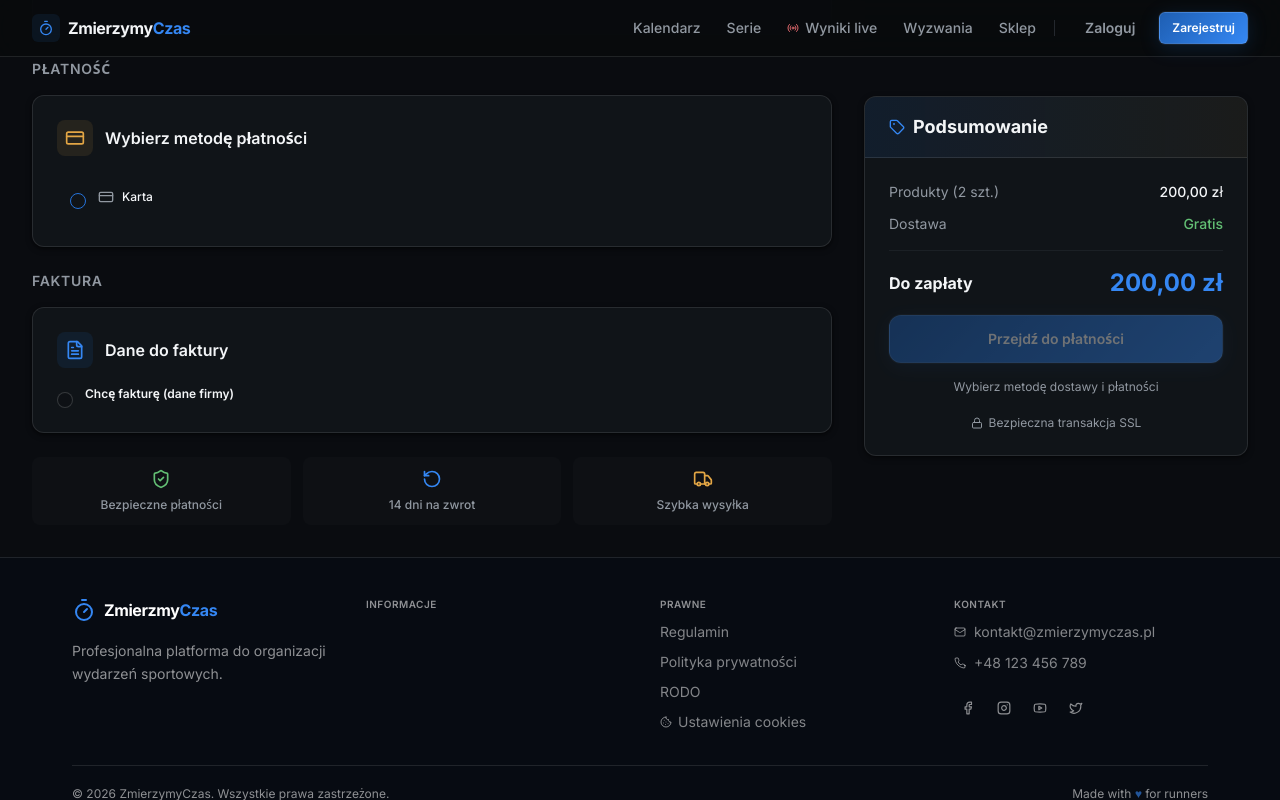
CartPage checkout › invoice data › shows a distinct format hint and error for a malformed NIP once touched
The image size is (1280, 800).
(page scrolled)
Click the checkbox named "Chcę fakturę (dane firmy)" at [65, 400], box [57,392,73,408]
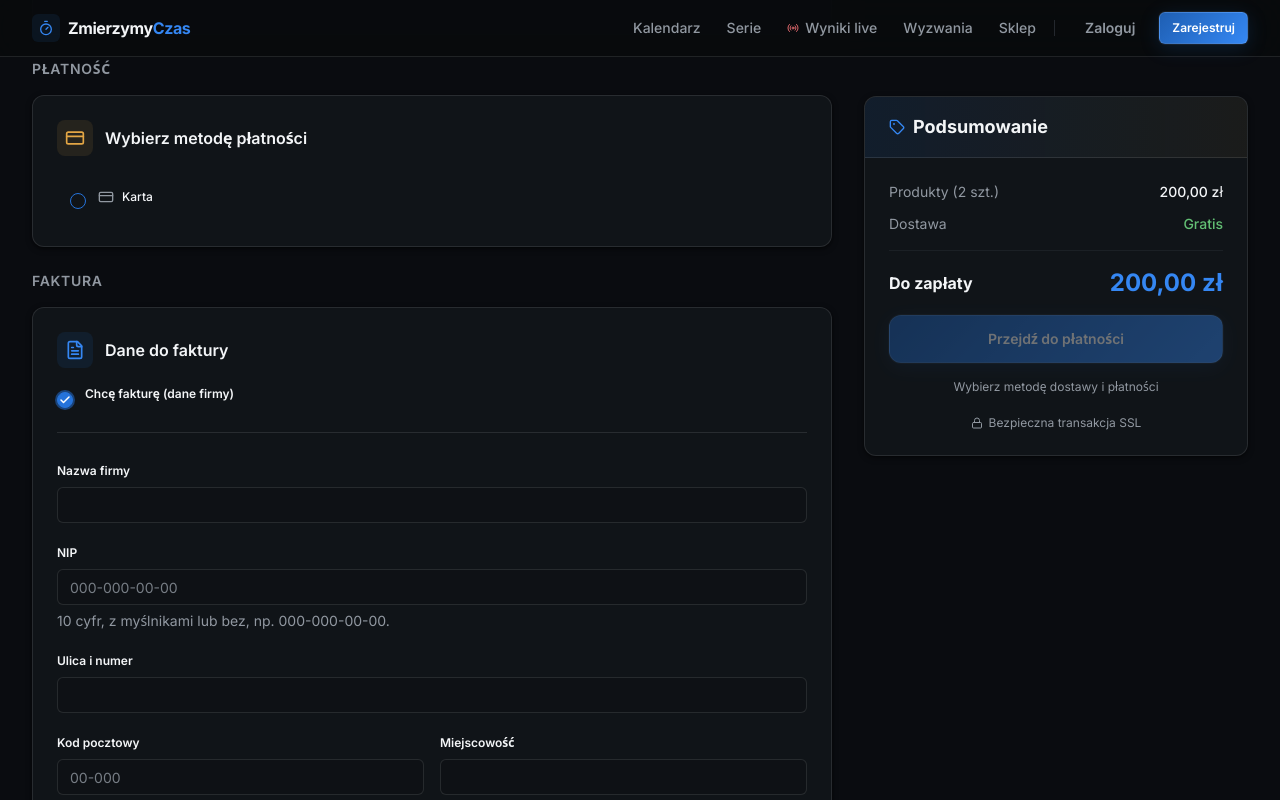
expect the text "10 cyfr, z myślnikami lub bez, np. 000-000-00-00." is shown: met, box [57,612,390,629]
Type "12345" into the field labelled "NIP" at [432, 587], box [57,569,807,605]
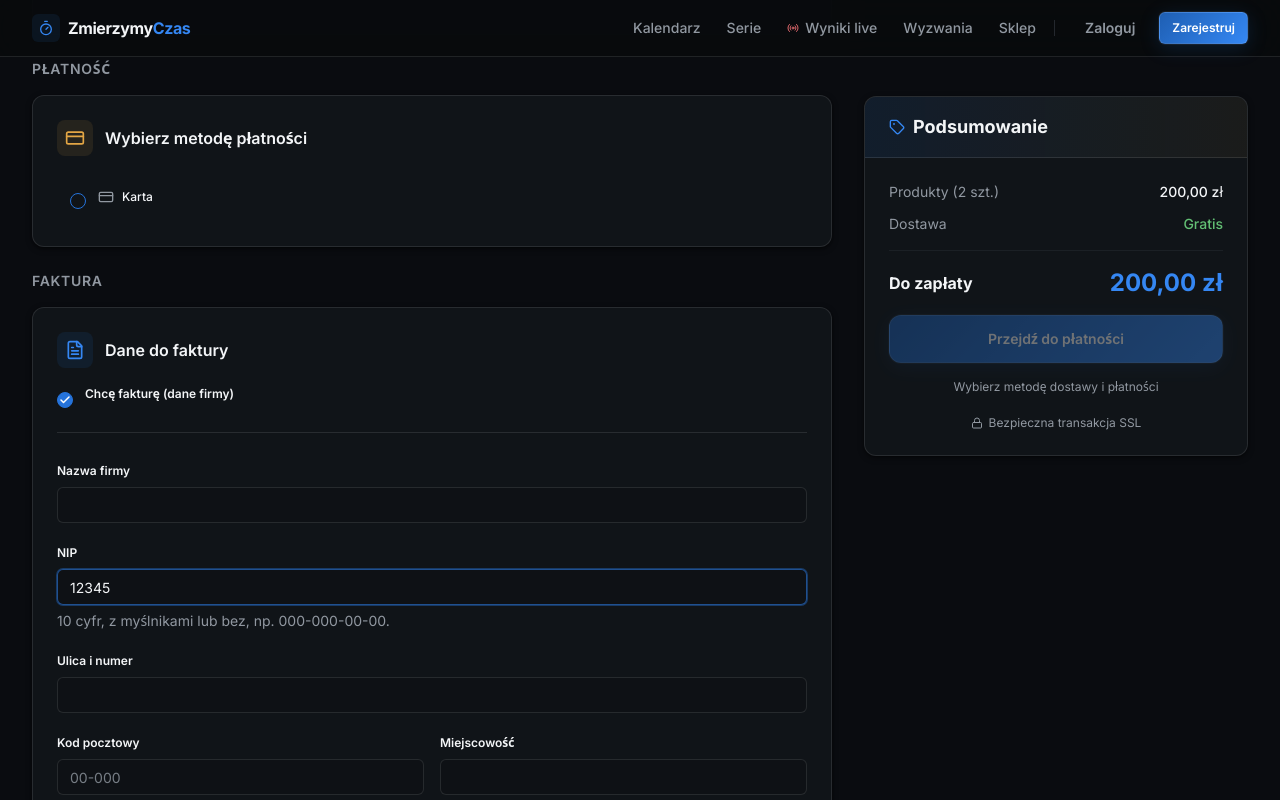
Press Tab
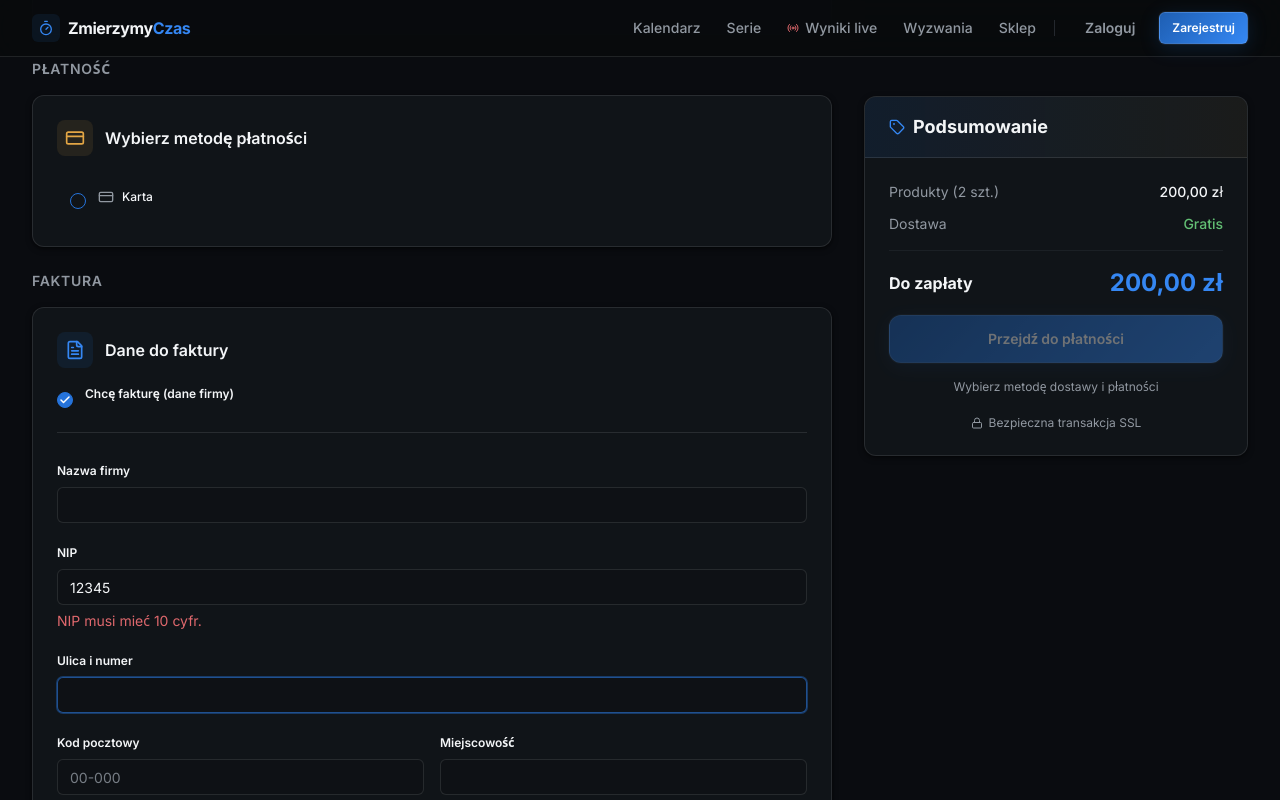
expect the text "NIP musi mieć 10 cyfr." is shown: met, box [57,612,202,629]
